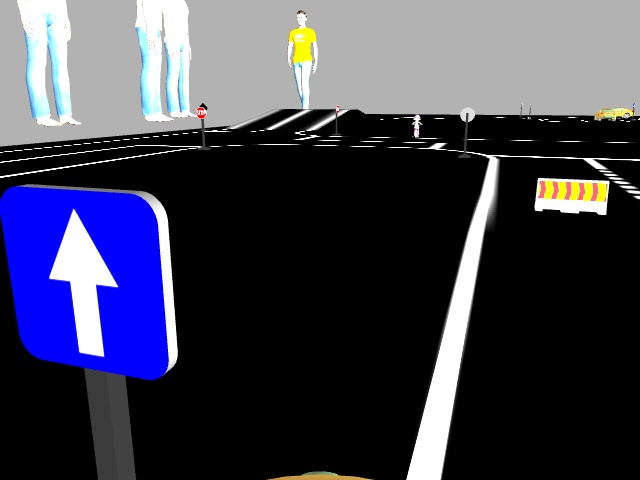ClosedRoadStand: (538, 177, 608, 214)
OneWay: (1, 187, 177, 379)
